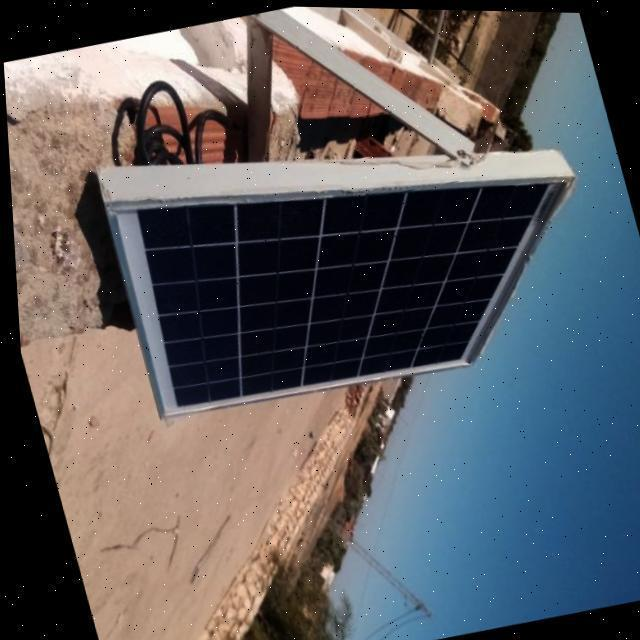Normal Solar Panel: (95, 102, 613, 429)
